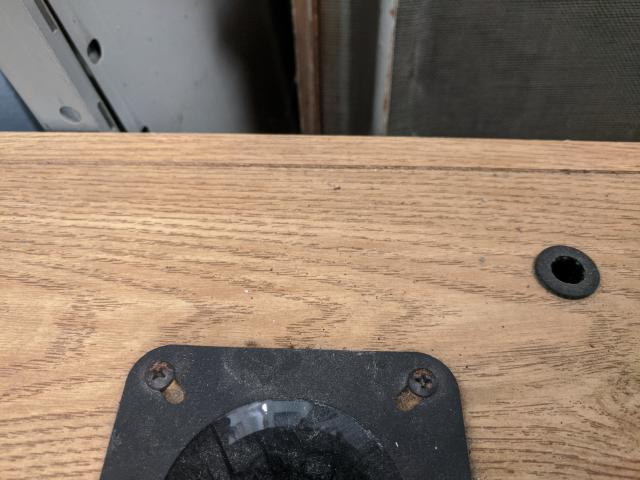CRS: (407, 364, 438, 401), (144, 363, 176, 390)
